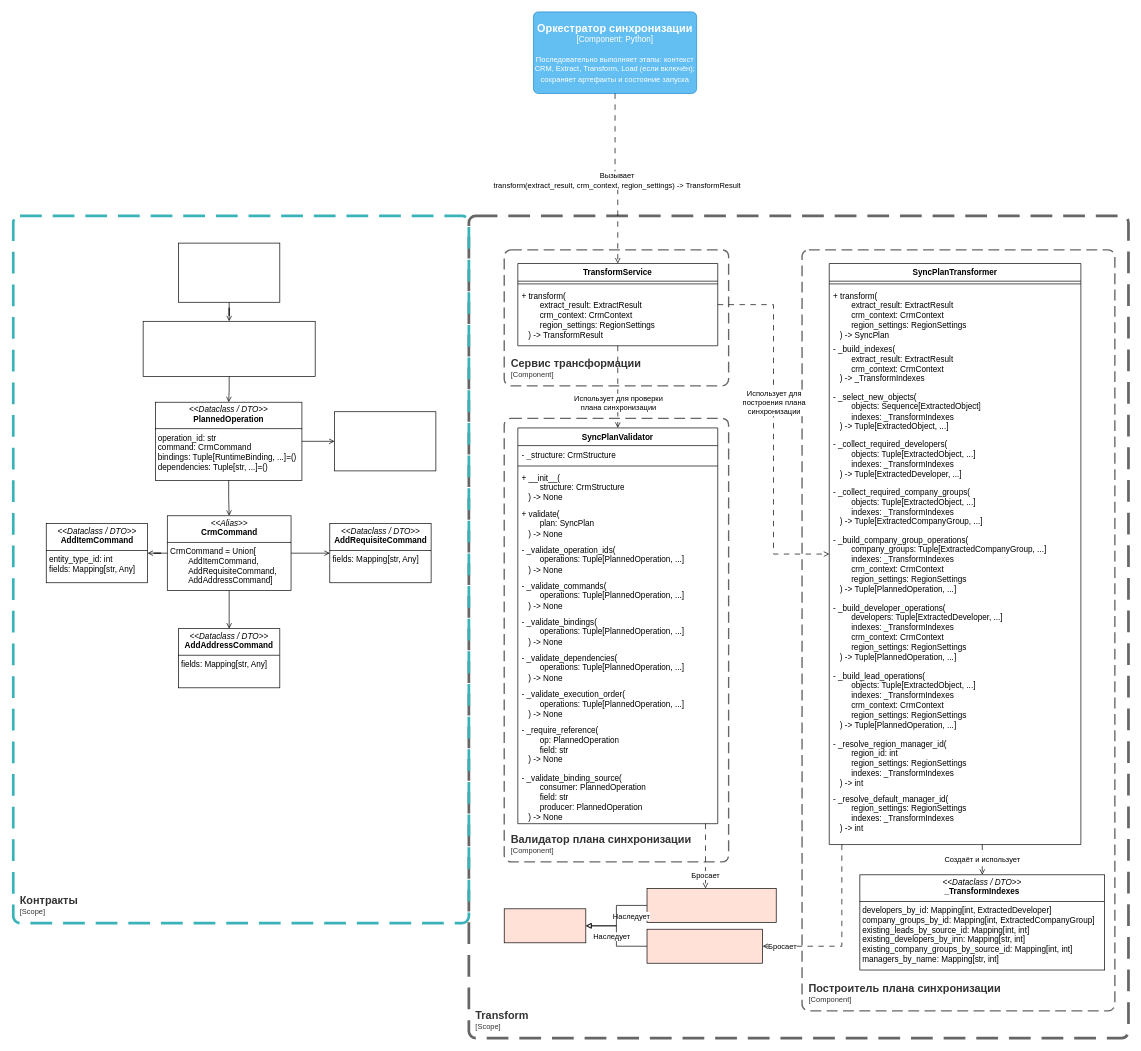
Some shapes in this 1141 by 1051 pixel diagram are drawn without their labels. Here are the shapes that lost their labels. From the top down, the centre of each, then its label:
At pixel 229 272: "<<Dataclass / DTO>> TransformResult plan: SyncPlan".
At pixel 228 348: "<<Dataclass / DTO>> SyncPlan operations: Tuple[PlannedOperation, ...]".
At pixel 385 441: "<<Dataclass / DTO>> RuntimeBinding field: str source_operation_id: str".
At pixel 545 925: "«Exception» TransformError".
At pixel 711 905: "«Exception» SyncPlanValidationError".
At pixel 704 946: "«Exception» TransformInputError".
